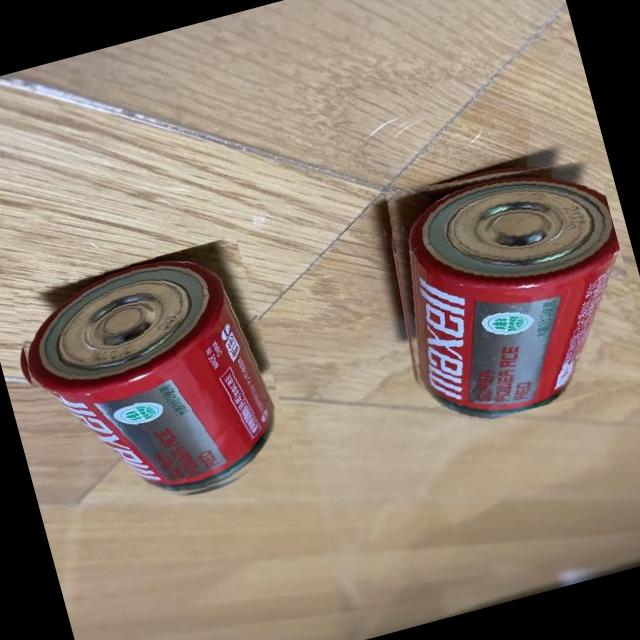Hazard: (1, 234, 298, 530), (364, 136, 640, 435)
